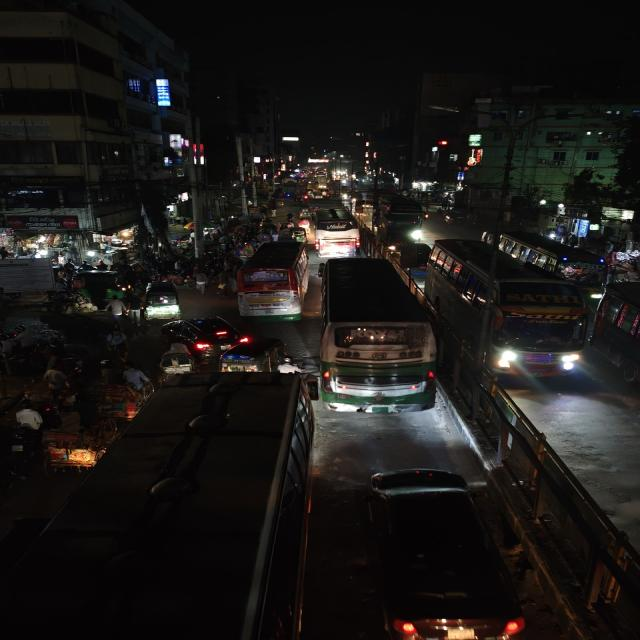bicycle: (103, 328, 135, 376)
bus: (32, 379, 322, 640), (428, 236, 590, 378), (316, 258, 440, 416), (496, 230, 630, 289), (234, 239, 313, 324), (595, 280, 640, 400), (312, 205, 362, 257), (377, 194, 426, 241)
car: (358, 462, 527, 640), (163, 315, 245, 354), (70, 270, 135, 300)
cng: (220, 336, 287, 374), (143, 281, 183, 321), (289, 226, 308, 242), (293, 223, 309, 235), (298, 206, 312, 217)
pedestrian: (40, 366, 76, 401), (14, 405, 46, 432), (105, 297, 129, 326), (192, 271, 210, 295)
rickshaw: (39, 409, 108, 477), (99, 372, 150, 417), (158, 347, 195, 381)
